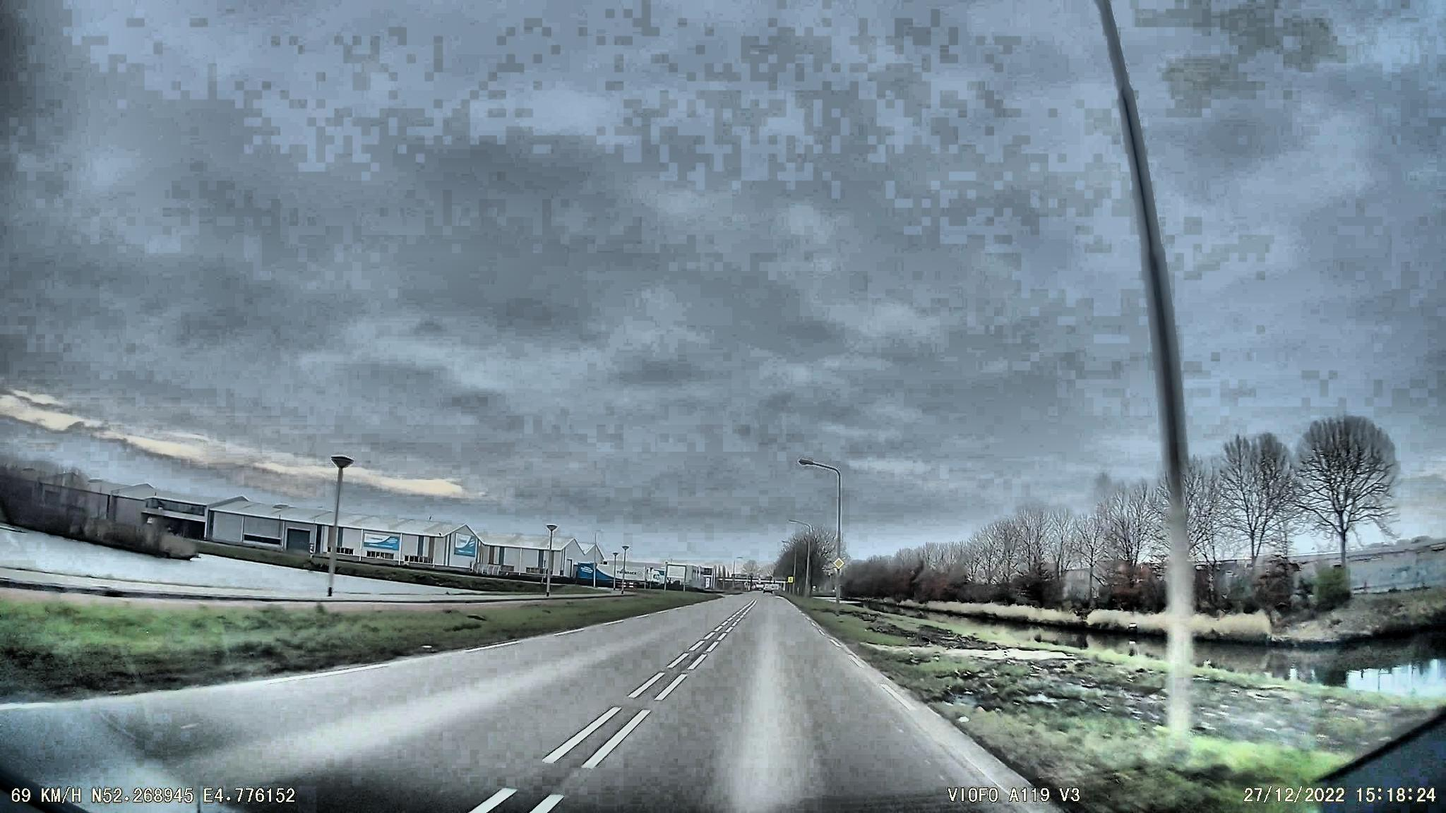Roads: (0, 592, 1085, 813)
